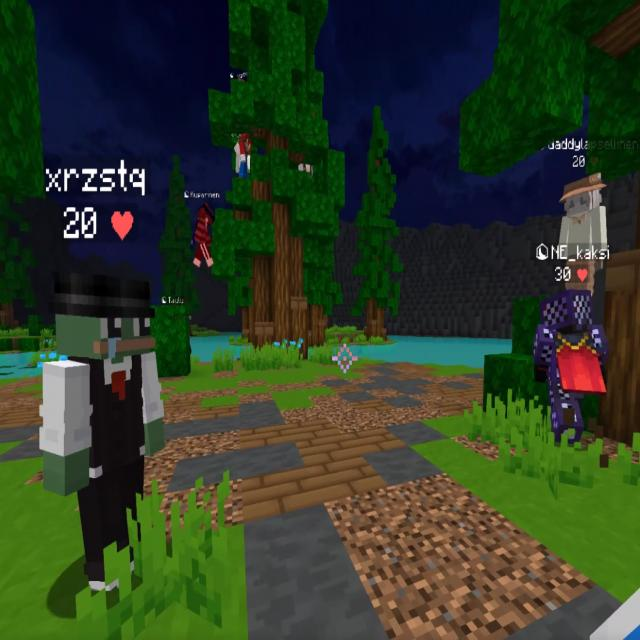Player: (42, 264, 165, 592), (556, 175, 608, 288), (191, 202, 213, 267)
